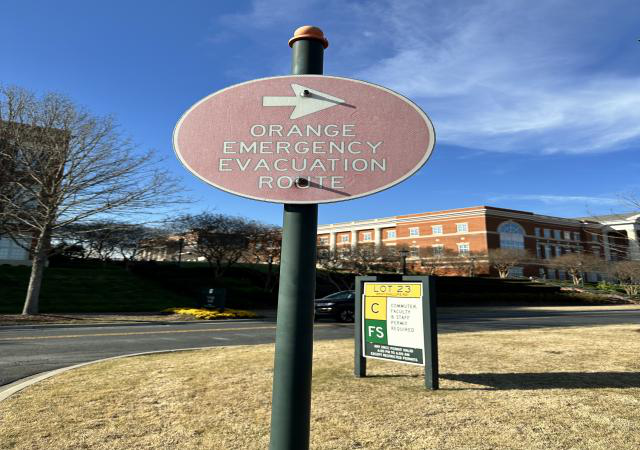not_stop: (170, 76, 437, 207)
